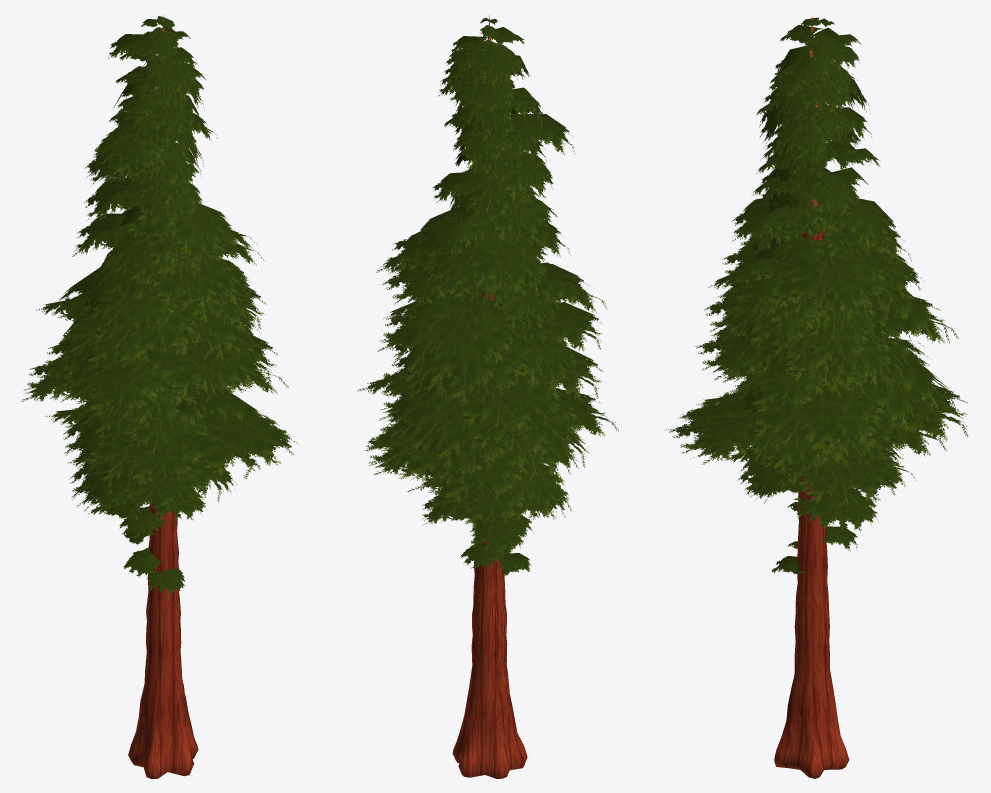
The model's file is sequoia_m2.gltf.
3 views of the same model, side by side, from view 1: azimuth 30°, elevation 25°; view 2: azimuth 150°, elevation 25°; view 3: azimuth 270°, elevation 25° (orthographic).
Parts seen in each view (by area): view 1: sequoia_m2; view 2: sequoia_m2; view 3: sequoia_m2.
Boxes of the visible parts, box(x1,y1,x2,y2) form: sequoia_m2: box(21, 15, 299, 778); sequoia_m2: box(357, 15, 618, 778); sequoia_m2: box(664, 17, 968, 778).
Size of the model in its own units: 5.83 by 17 by 6.62.
2 materials, 2 textured.
